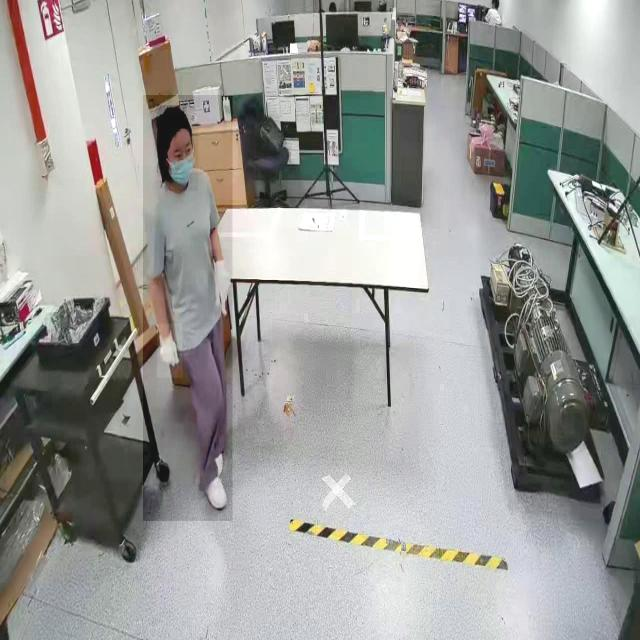face_mask: (167, 130, 198, 191)
hand_glove: (208, 249, 230, 315), (157, 324, 183, 378)
head_nohelmet: (157, 105, 191, 130)
person: (143, 95, 233, 522)
shoes: (202, 466, 229, 512)
